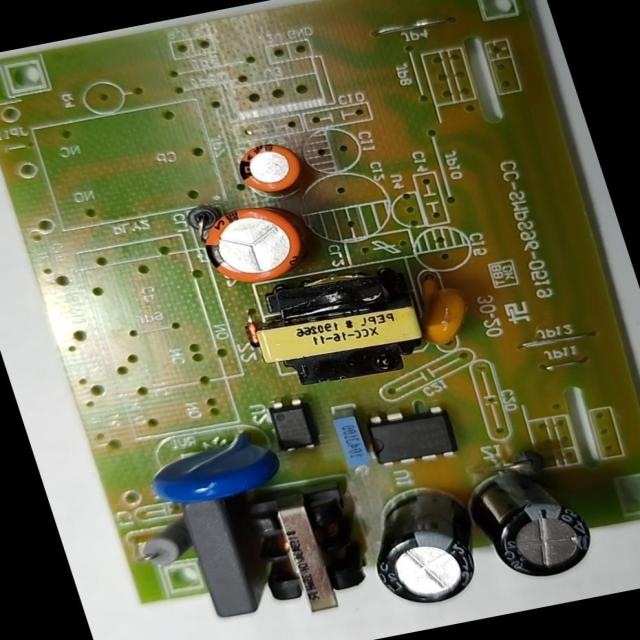Cap1: (190, 195, 319, 292)
Cap2: (226, 132, 313, 203)
Cap3: (350, 480, 495, 614)
Cap4: (456, 458, 607, 587)
MOSFET: (358, 399, 464, 475)
Mov: (131, 416, 293, 513)
Resistor: (126, 518, 198, 576)
Transformer: (245, 262, 443, 396), (236, 471, 386, 623)
